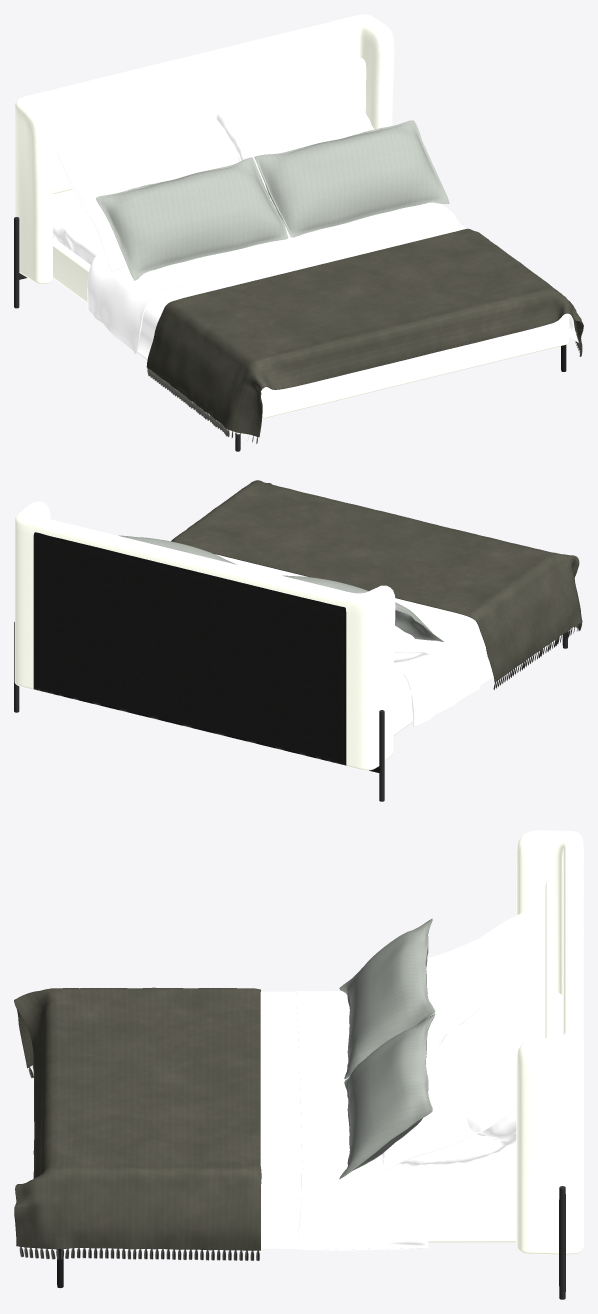
File: pillowBed.glb
3 views of the same model, one above another, from view 1: azimuth 30°, elevation 25°; view 2: azimuth 150°, elevation 25°; view 3: azimuth 270°, elevation 25° (orthographic). The views are drawn at different scales.
Visible parts, largest first — view 1: polySurface24.001, polySurface24.002; view 2: polySurface24.001, polySurface24.002; view 3: polySurface24.001, polySurface24.002.
Part boxes in pixels (<box>): polySurface24.001: <box>14,14,583,451</box>; polySurface24.002: <box>147,333,582,443</box>; polySurface24.001: <box>14,480,582,801</box>; polySurface24.002: <box>493,622,582,689</box>; polySurface24.001: <box>14,830,583,1299</box>; polySurface24.002: <box>19,1065,259,1260</box>.
Bounding box in the file's own units: 2 × 1.05 × 2.15.
Materials: 2 (2 with a texture image).
